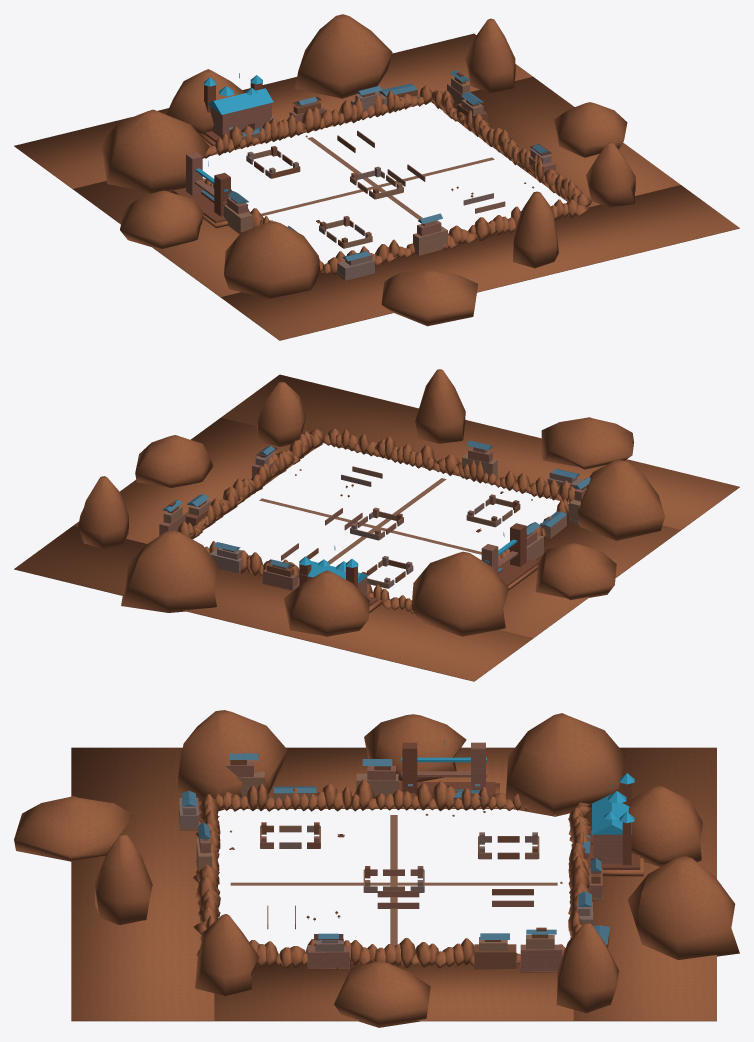
The model's file is kyokoku-lod2.glb.
3 views of the same model, one above another, from view 1: azimuth 30°, elevation 25°; view 2: azimuth 150°, elevation 25°; view 3: azimuth 270°, elevation 25° (orthographic). The views are drawn at different scales.
Parts seen in each view (by area): view 1: HB_kyokoku_LOD2_terrain, HB_kyokoku_LOD2_wall_warm, HB_kyokoku_LOD2_wall_cool, HB_kyokoku_LOD2_wall, HB_kyokoku_LOD2_roof, HB_kyokoku_LOD2_road, HB_kyokoku_LOD2_wall_weathered, HB_kyokoku_LOD2_LANDMARK_0_accent, HB_kyokoku_LOD2_LANDMARK_0_wall, HB_kyokoku_LOD2_LANDMARK_1_wall_alt, HB_kyokoku_LOD2_LANDMARK_1_wall; view 2: HB_kyokoku_LOD2_terrain, HB_kyokoku_LOD2_wall_warm, HB_kyokoku_LOD2_wall, HB_kyokoku_LOD2_wall_cool, HB_kyokoku_LOD2_roof, HB_kyokoku_LOD2_road, HB_kyokoku_LOD2_LANDMARK_1_wall_alt, HB_kyokoku_LOD2_wall_weathered, HB_kyokoku_LOD2_LANDMARK_0_accent, HB_kyokoku_LOD2_LANDMARK_1_wall; view 3: HB_kyokoku_LOD2_terrain, HB_kyokoku_LOD2_wall, HB_kyokoku_LOD2_wall_warm, HB_kyokoku_LOD2_wall_weathered, HB_kyokoku_LOD2_roof, HB_kyokoku_LOD2_road, HB_kyokoku_LOD2_wall_cool, HB_kyokoku_LOD2_LANDMARK_0_accent, HB_kyokoku_LOD2_LANDMARK_1_wall_alt, HB_kyokoku_LOD2_LANDMARK_1_wall, HB_kyokoku_LOD2_LANDMARK_0_wall_alt, HB_kyokoku_LOD2_LANDMARK_0_wall.
Boxes of the visible parts, x1=… form: HB_kyokoku_LOD2_terrain: x1=14, y1=14, x2=739, y2=340; HB_kyokoku_LOD2_wall_warm: x1=224, y1=77, x2=505, y2=280; HB_kyokoku_LOD2_wall_cool: x1=246, y1=91, x2=551, y2=280; HB_kyokoku_LOD2_wall: x1=227, y1=83, x2=555, y2=255; HB_kyokoku_LOD2_roof: x1=201, y1=70, x2=548, y2=261; HB_kyokoku_LOD2_road: x1=261, y1=137, x2=494, y2=219; HB_kyokoku_LOD2_wall_weathered: x1=201, y1=77, x2=487, y2=248; HB_kyokoku_LOD2_LANDMARK_0_accent: x1=204, y1=73, x2=273, y2=114; HB_kyokoku_LOD2_LANDMARK_0_wall: x1=210, y1=103, x2=271, y2=137; HB_kyokoku_LOD2_LANDMARK_1_wall_alt: x1=173, y1=173, x2=230, y2=223; HB_kyokoku_LOD2_LANDMARK_1_wall: x1=186, y1=152, x2=226, y2=203; HB_kyokoku_LOD2_terrain: x1=14, y1=369, x2=739, y2=681; HB_kyokoku_LOD2_wall_warm: x1=163, y1=447, x2=580, y2=590; HB_kyokoku_LOD2_wall: x1=159, y1=447, x2=586, y2=590; HB_kyokoku_LOD2_wall_cool: x1=210, y1=451, x2=583, y2=588; HB_kyokoku_LOD2_roof: x1=162, y1=440, x2=590, y2=571; HB_kyokoku_LOD2_road: x1=259, y1=478, x2=481, y2=564; HB_kyokoku_LOD2_LANDMARK_1_wall_alt: x1=498, y1=523, x2=538, y2=586; HB_kyokoku_LOD2_wall_weathered: x1=167, y1=485, x2=587, y2=582; HB_kyokoku_LOD2_LANDMARK_0_accent: x1=299, y1=545, x2=368, y2=582; HB_kyokoku_LOD2_LANDMARK_1_wall: x1=481, y1=544, x2=518, y2=574; HB_kyokoku_LOD2_terrain: x1=14, y1=710, x2=739, y2=1027; HB_kyokoku_LOD2_wall: x1=199, y1=762, x2=602, y2=971; HB_kyokoku_LOD2_wall_warm: x1=180, y1=771, x2=602, y2=968; HB_kyokoku_LOD2_wall_weathered: x1=230, y1=760, x2=609, y2=968; HB_kyokoku_LOD2_roof: x1=181, y1=753, x2=609, y2=944; HB_kyokoku_LOD2_road: x1=230, y1=815, x2=557, y2=946; HB_kyokoku_LOD2_wall_cool: x1=179, y1=797, x2=598, y2=951; HB_kyokoku_LOD2_LANDMARK_0_accent: x1=592, y1=773, x2=634, y2=834; HB_kyokoku_LOD2_LANDMARK_1_wall_alt: x1=398, y1=742, x2=495, y2=796; HB_kyokoku_LOD2_LANDMARK_1_wall: x1=401, y1=742, x2=486, y2=789; HB_kyokoku_LOD2_LANDMARK_0_wall_alt: x1=586, y1=783, x2=640, y2=869; HB_kyokoku_LOD2_LANDMARK_0_wall: x1=593, y1=834, x2=622, y2=863.
Bounding box in the file's own units: 626 × 79.41 × 659.
13 materials, 12 textured.
